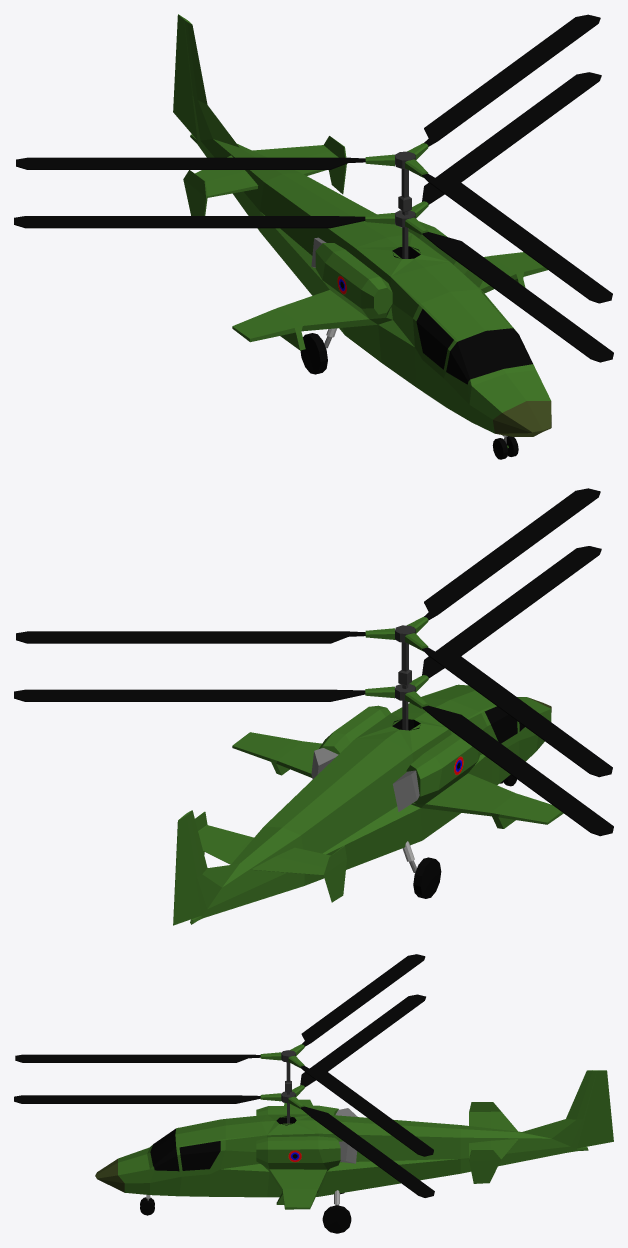
The picture shows the model from 3 angles, top to bottom: view 1: azimuth 30°, elevation 25°; view 2: azimuth 150°, elevation 25°; view 3: azimuth 270°, elevation 25°; orthographic projection. The views are drawn at different scales.
Visible parts, largest first — view 1: Circle.044, Circle.049, Circle.050, Circle.048, Circle.045, Landing gear_RL.009, Circle.054; view 2: Circle.044, Circle.049, Circle.050, Circle.045, Landing gear_RL.009, Circle.048, Circle.046; view 3: Circle.044, Circle.049, Circle.050, Circle.045, Circle.053, Landing gear_RL.008.
Part boxes in pixels (x1,y1,x2,y2): Circle.044: [183, 19, 551, 436]; Circle.049: [14, 72, 613, 362]; Circle.050: [16, 14, 612, 303]; Circle.048: [413, 304, 456, 377]; Circle.045: [173, 14, 197, 140]; Landing gear_RL.009: [300, 328, 336, 374]; Circle.054: [258, 145, 327, 157]; Circle.044: [184, 684, 563, 924]; Circle.049: [14, 546, 613, 836]; Circle.050: [16, 488, 612, 777]; Circle.045: [173, 815, 201, 925]; Landing gear_RL.009: [402, 841, 441, 898]; Circle.048: [480, 705, 518, 747]; Circle.046: [258, 858, 325, 874]; Circle.044: [95, 1070, 597, 1209]; Circle.049: [14, 994, 434, 1197]; Circle.050: [15, 954, 433, 1156]; Circle.045: [577, 1070, 613, 1148]; Circle.053: [177, 1139, 225, 1176]; Landing gear_RL.008: [322, 1190, 351, 1233].
Bounding box in the file's own units: 1451 × 533 × 1812.
